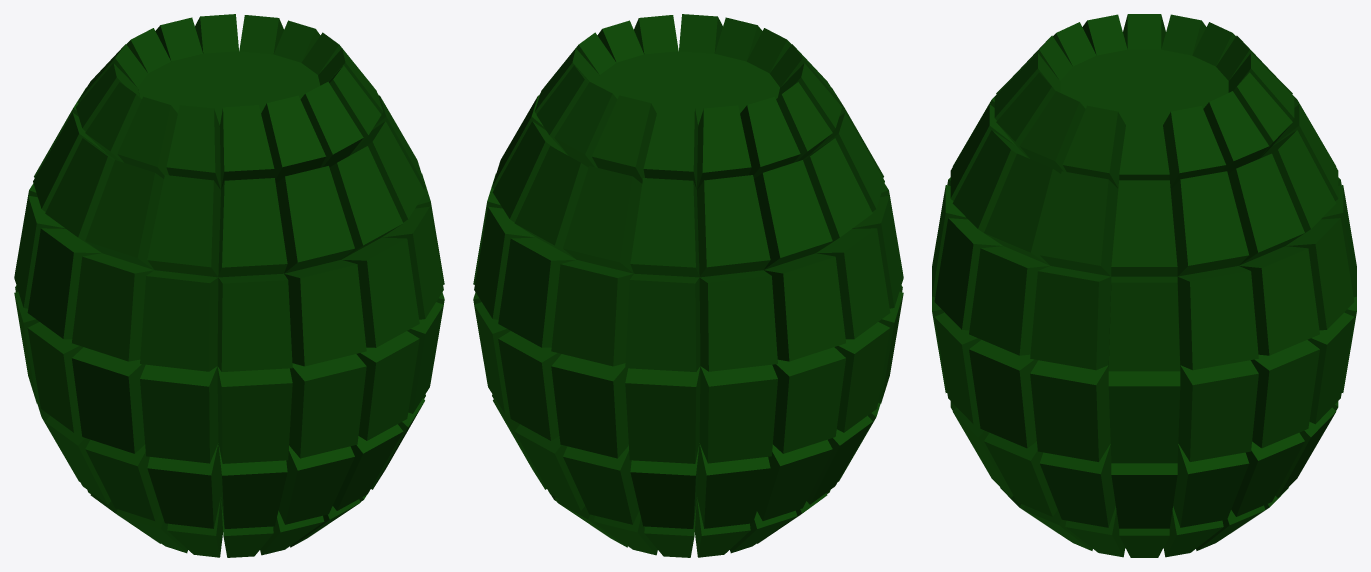
The model's file is GrenadeNoPin.fbx.
3 views of the same model, side by side, from view 1: azimuth 30°, elevation 25°; view 2: azimuth 150°, elevation 25°; view 3: azimuth 270°, elevation 25° (orthographic).
Visible parts, largest first — view 1: Grenade; view 2: Grenade; view 3: Grenade.
Boxes of the visible parts, bbox=[...] form: Grenade: bbox=[14, 14, 444, 557]; Grenade: bbox=[473, 14, 903, 557]; Grenade: bbox=[932, 14, 1356, 557].
Bounding box in the file's own units: 232 × 277 × 232.
